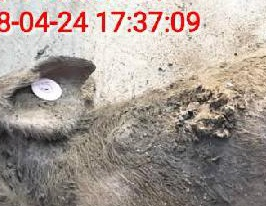text: (16, 63, 74, 108)
